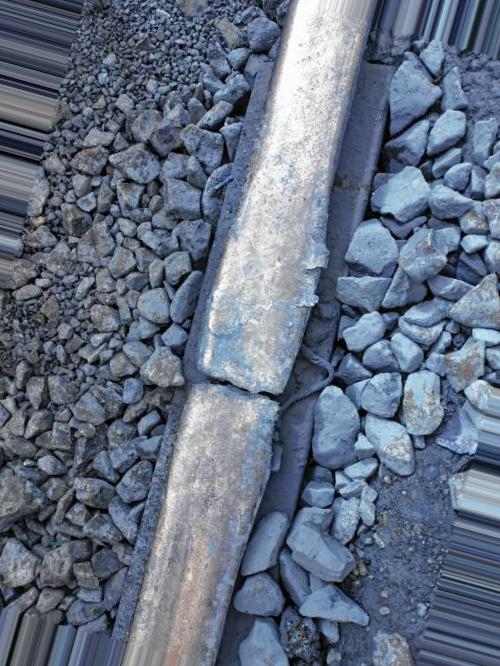tracks_fault: (154, 193, 360, 498)
